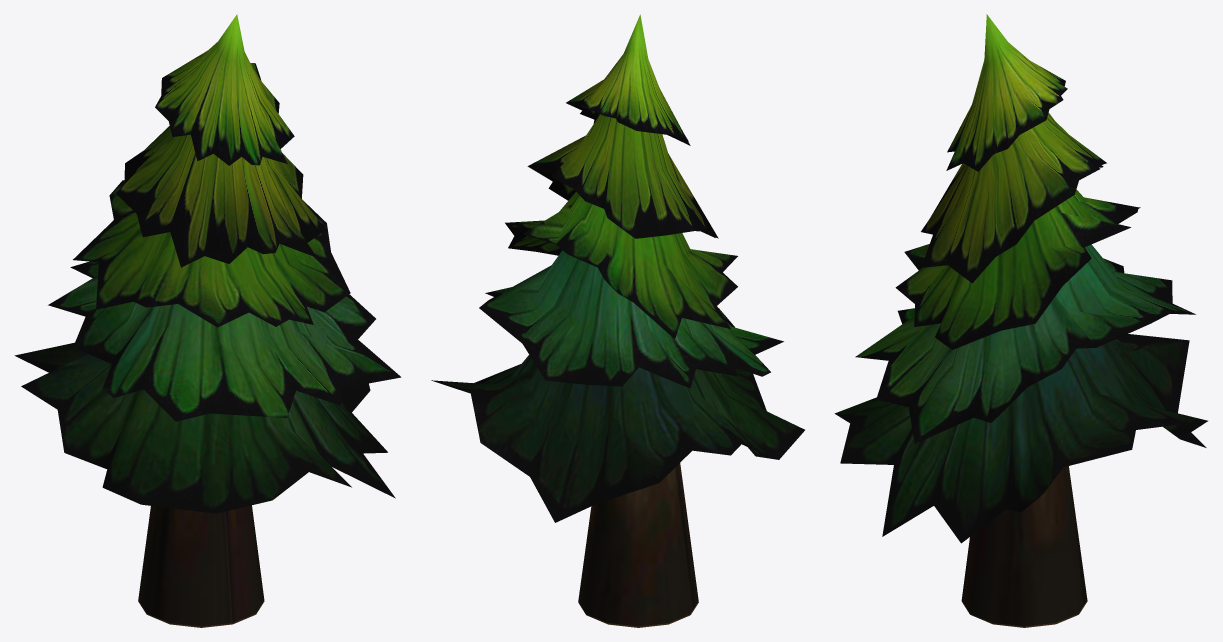
Rendered from pine_tree.glb.
3 renders of one model, left to right at view 1: azimuth 30°, elevation 25°; view 2: azimuth 150°, elevation 25°; view 3: azimuth 270°, elevation 25°, orthographic. The views are drawn at different scales.
Parts seen in each view (by area): view 1: tree; view 2: tree; view 3: tree.
Part boxes in pixels (<box>): tree: <box>14,14,401,627</box>; tree: <box>431,14,804,627</box>; tree: <box>834,14,1207,627</box>.
Bounding box in the file's own units: 2.14 × 3.94 × 2.24.
1 material, 1 textured.
